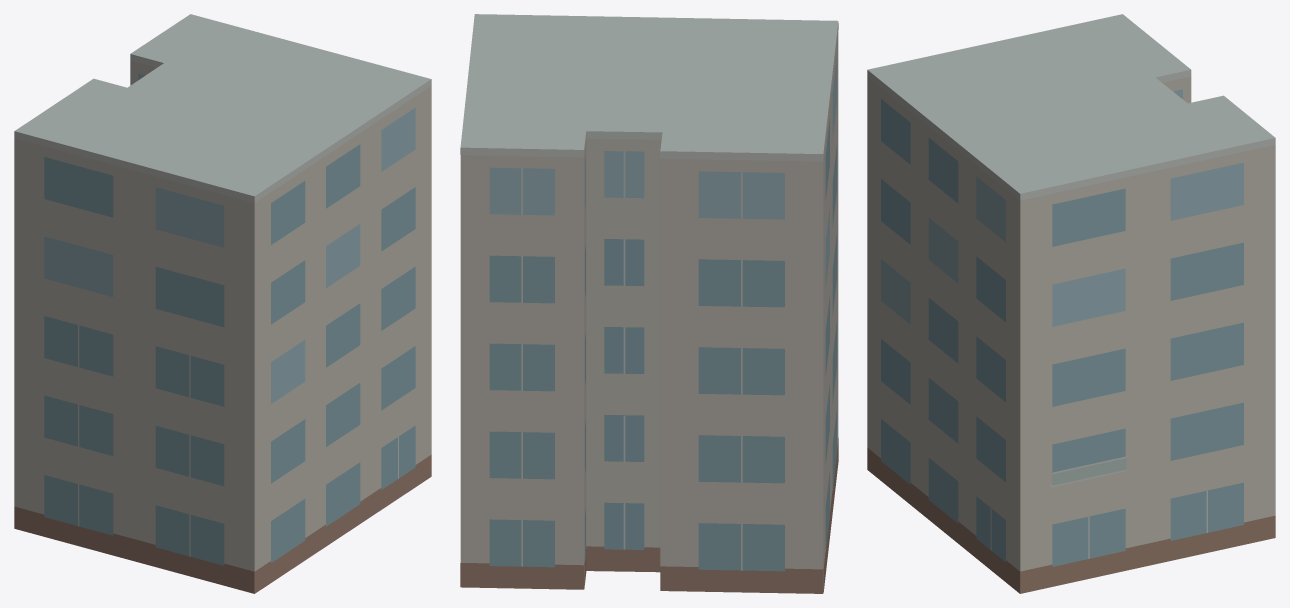
File: survey-upis-32665812.glb
3 renders of one model, left to right at view 1: azimuth 30°, elevation 25°; view 2: azimuth 150°, elevation 25°; view 3: azimuth 270°, elevation 25°, orthographic. The views are drawn at different scales.
Parts seen in each view (by area): view 1: survey-upis-32665812.tmp; view 2: survey-upis-32665812.tmp; view 3: survey-upis-32665812.tmp.
Boxes of the visible parts, x1=… form: survey-upis-32665812.tmp: x1=14, y1=14, x2=431, y2=593; survey-upis-32665812.tmp: x1=460, y1=14, x2=838, y2=593; survey-upis-32665812.tmp: x1=867, y1=14, x2=1275, y2=593.
Bounding box in the file's own units: 13.99 × 14.5 × 13.42.
